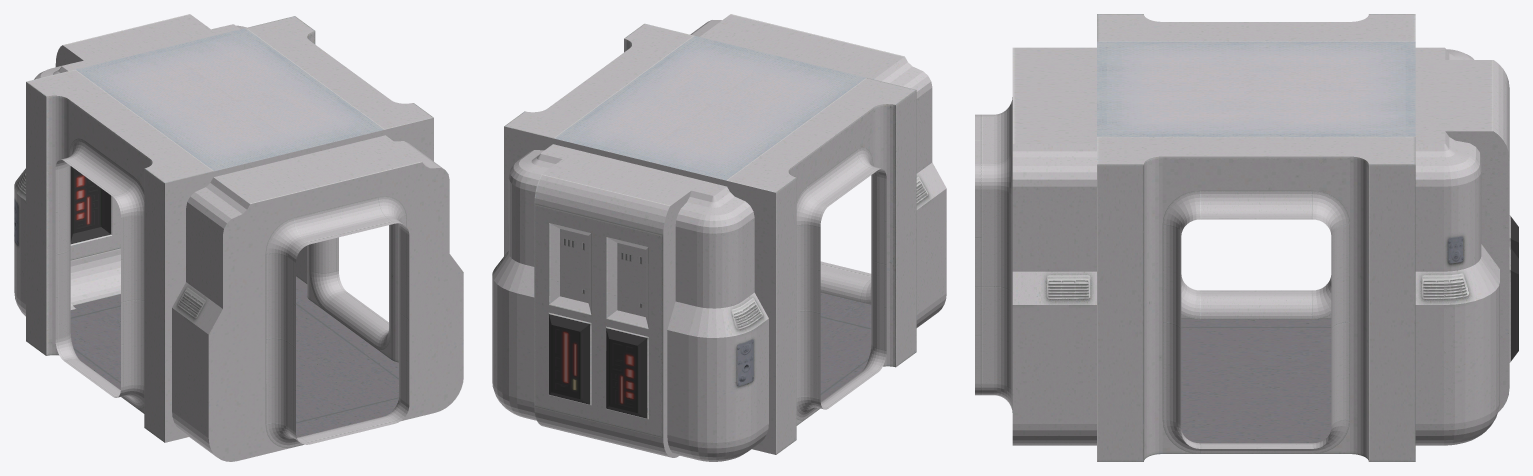
File: thm_spc_corvette_dungeon_r31_hall31_mesh_r31.fbx
3 renders of one model, left to right at view 1: azimuth 30°, elevation 25°; view 2: azimuth 150°, elevation 25°; view 3: azimuth 270°, elevation 25°, orthographic. The views are drawn at different scales.
Visible parts, largest first — view 1: mesh_node; view 2: mesh_node; view 3: mesh_node.
Part boxes in pixels (x1,y1,x2,y2): mesh_node: (14,14,463,461); mesh_node: (492,14,946,461); mesh_node: (975,14,1518,461).
Bounding box in the file's own units: 4 × 3.5 × 5.8.
